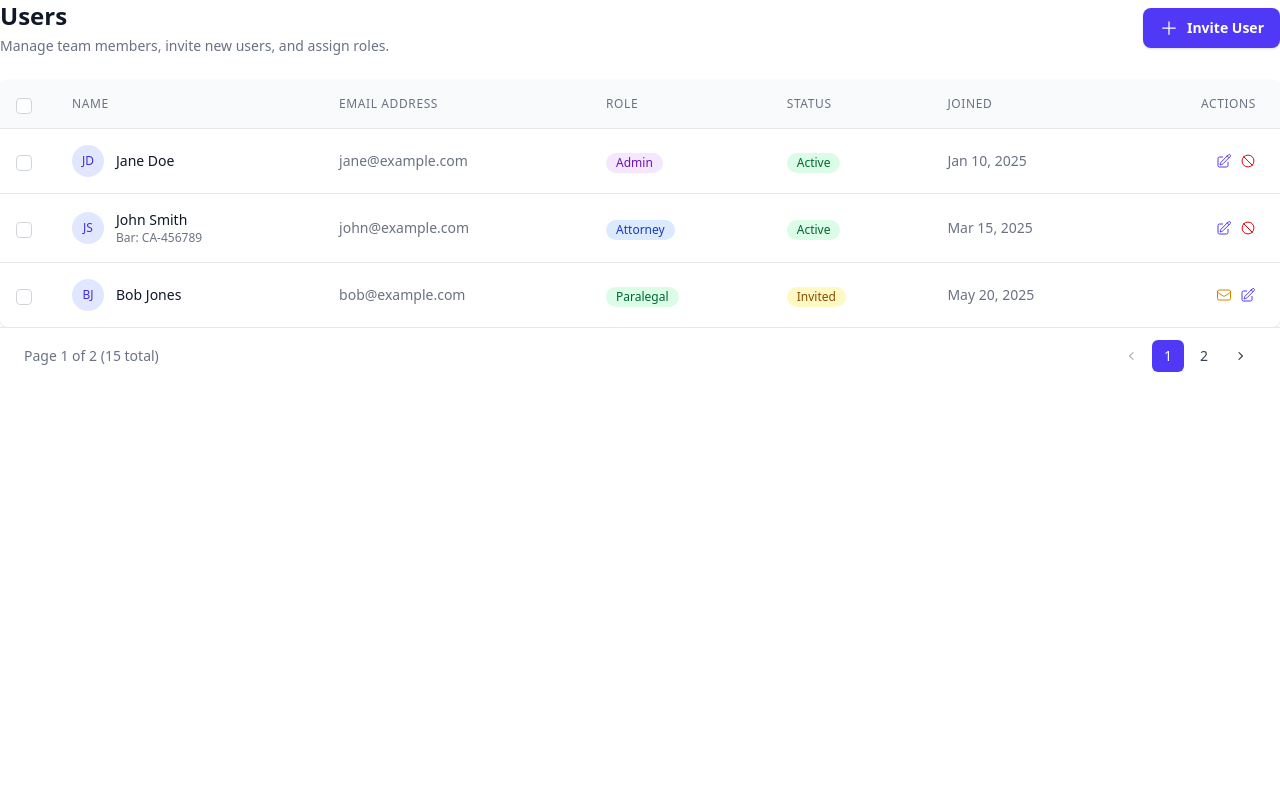
Test: UsersView › validates invite form fields
Open modal
Click the button "Invite User" at (1212,28), box [1143,8,1279,48]
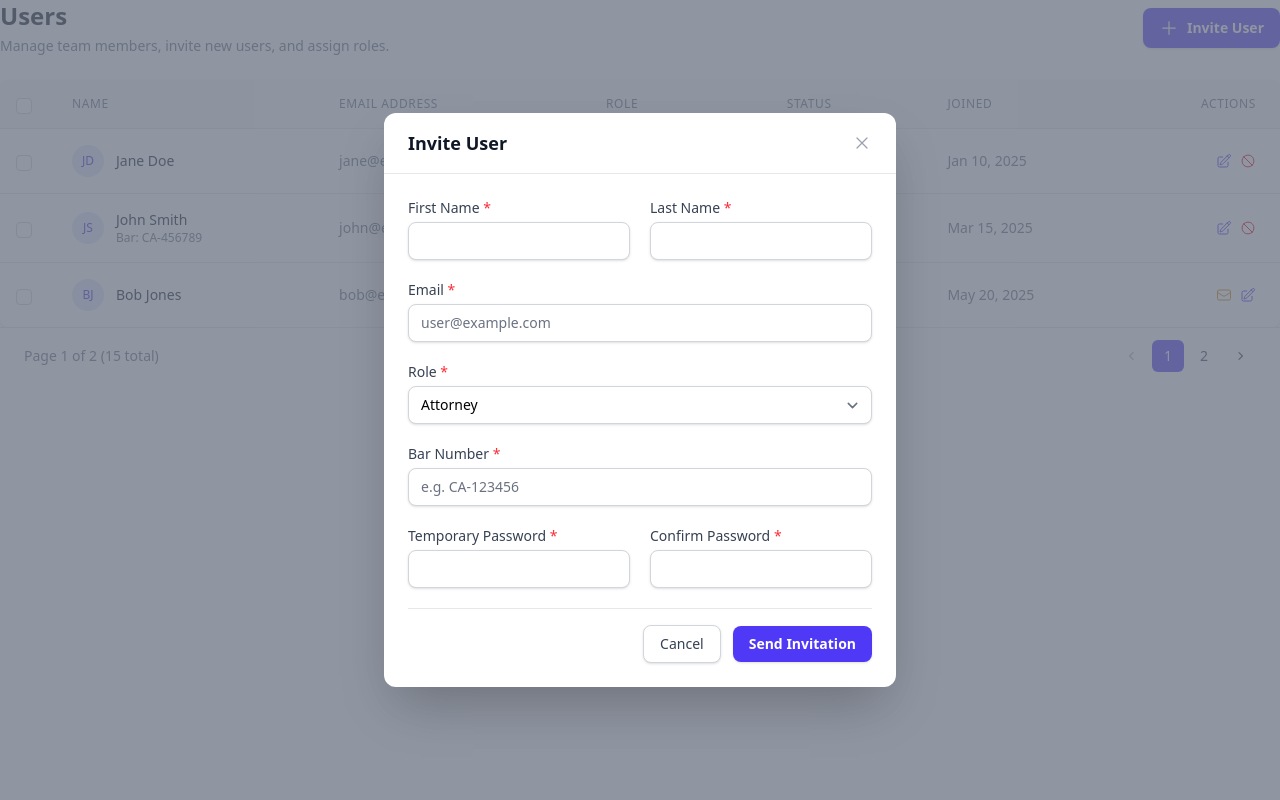
Submit empty form - the default role is 'attorney' which requires bar_number
Submit the form, box [384,174,896,687]
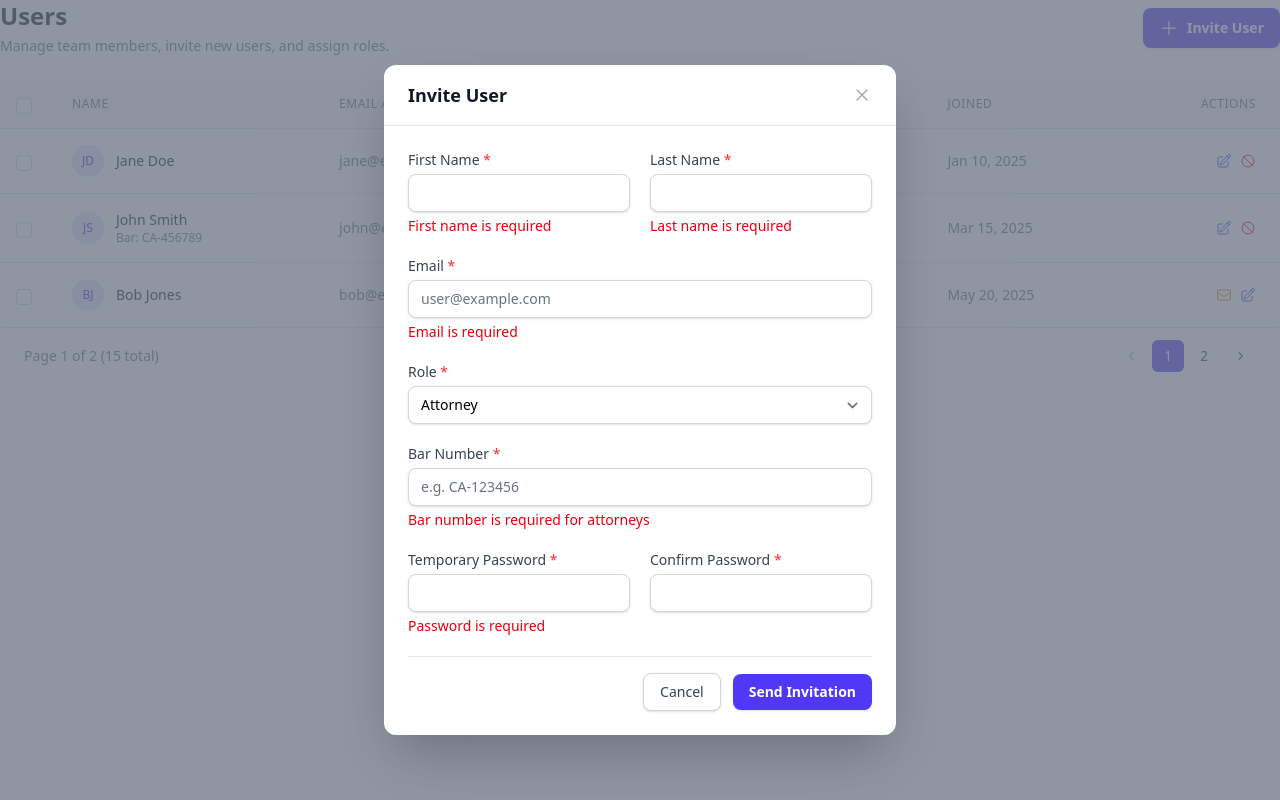
Expected: the text "First name is required" is shown, [408,216,551,235]
Expected: the text "Last name is required" is shown, [650,216,792,235]
Expected: the text "Email is required" is shown, [408,322,518,341]
